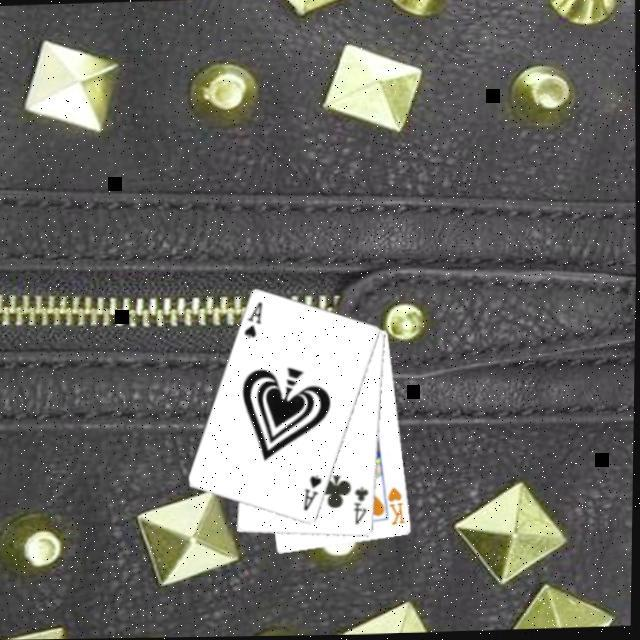4C: (352, 484, 374, 526)
AS: (242, 298, 268, 341), (302, 472, 326, 514)
KH: (386, 484, 411, 528)
